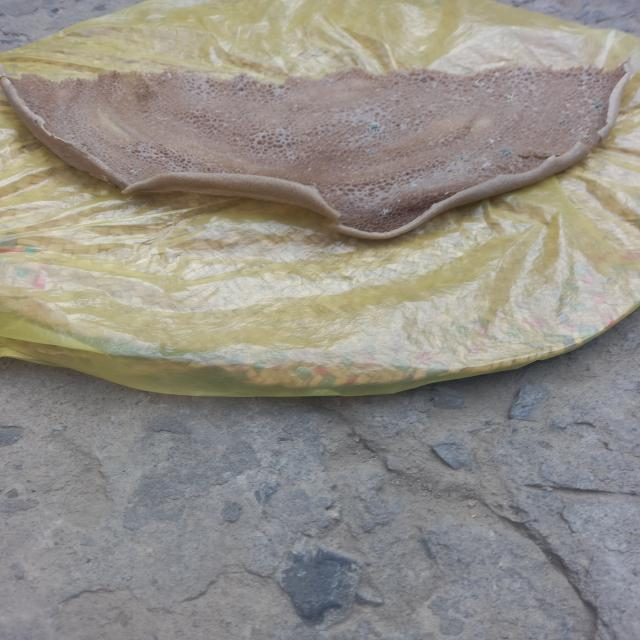injera_mold: (570, 125, 592, 140), (379, 207, 393, 219), (503, 92, 518, 103), (368, 123, 381, 130), (475, 79, 487, 86), (480, 162, 493, 168), (557, 118, 568, 125), (365, 149, 375, 156), (499, 149, 512, 154), (593, 104, 604, 109), (491, 72, 501, 76), (443, 191, 449, 196), (587, 76, 593, 81), (595, 125, 601, 130), (381, 133, 388, 137), (459, 156, 465, 160), (489, 138, 495, 142), (410, 183, 417, 186), (397, 198, 401, 203), (466, 141, 471, 144)
